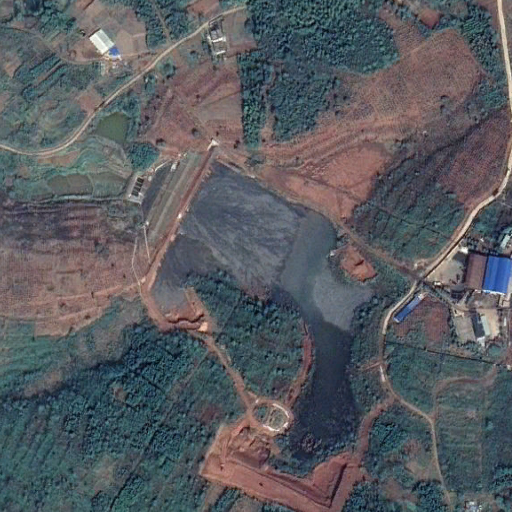tp: (142, 158, 378, 409)
